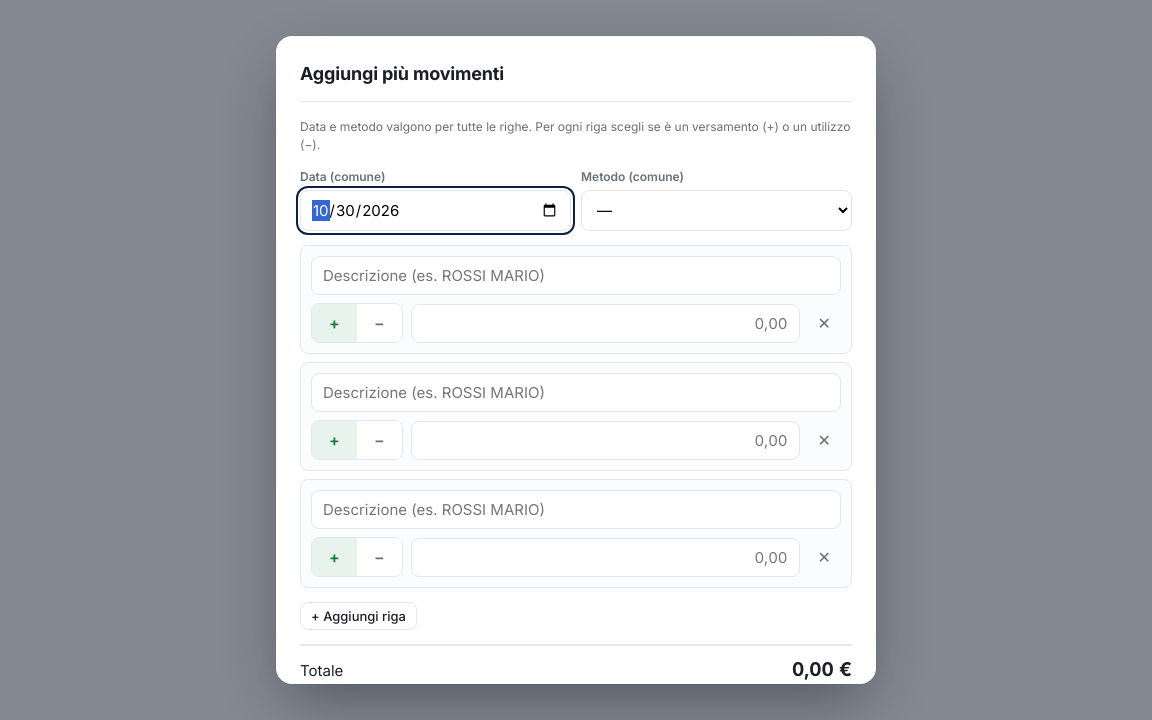
Scenario: BulkMovimentiModal — l'errore va sulla RIGA, non in un riassunto › una riga con importo non interpretabile: l'avviso è sotto QUELL'importo
Type "ROSSI MARIO" into the field named "Descrizione del movimento" at (576,276), box x1=311 y1=256 x2=841 y2=295
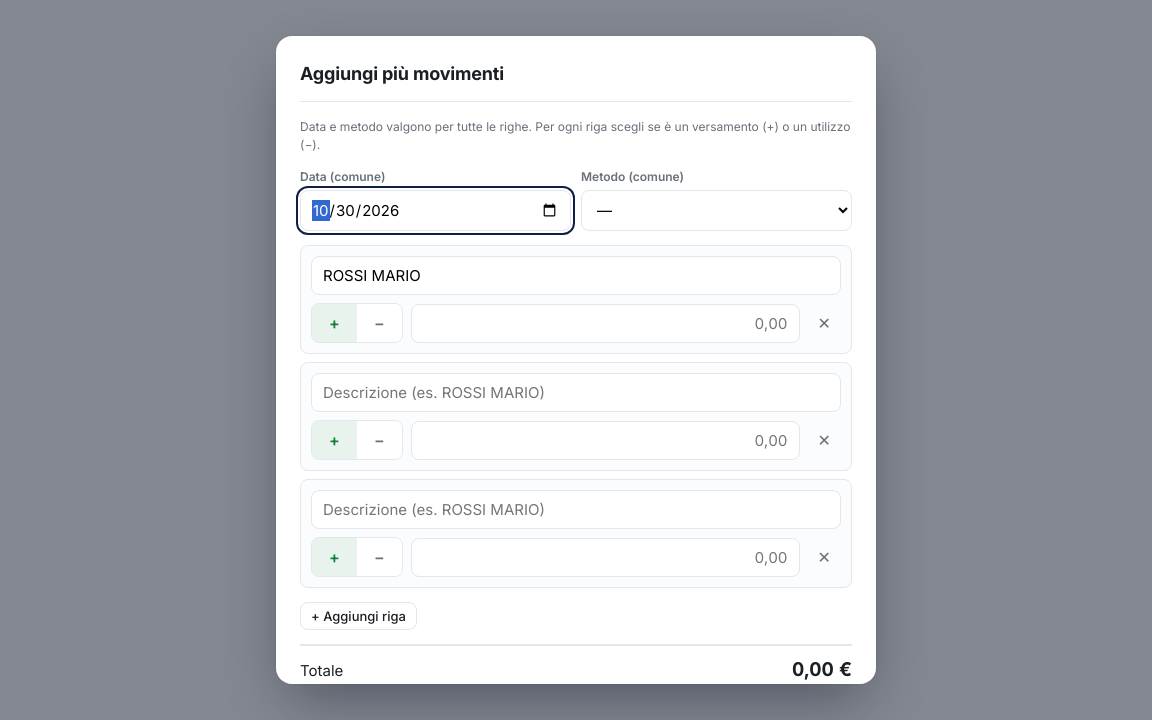
Type "non un numero" into the field named "Importo del movimento" at (605,323), box x1=411 y1=304 x2=800 y2=342
(page scrolled)
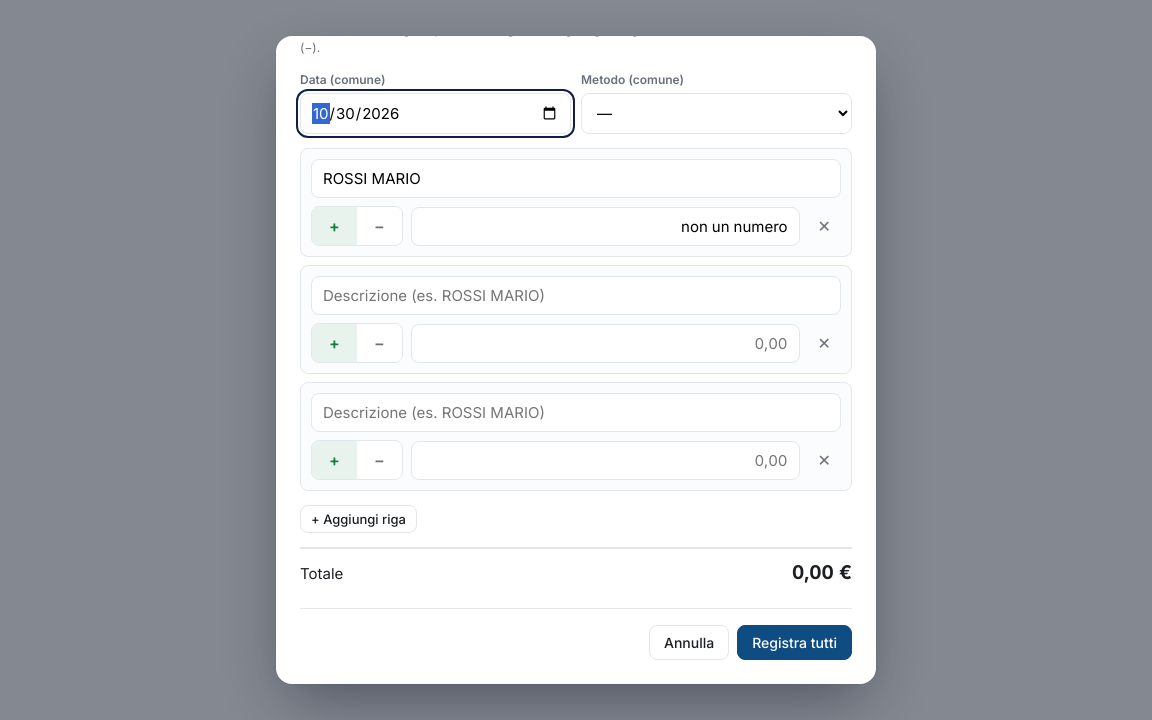
Click the button "Registra tutti" at (795,642), box x1=737 y1=624 x2=852 y2=660
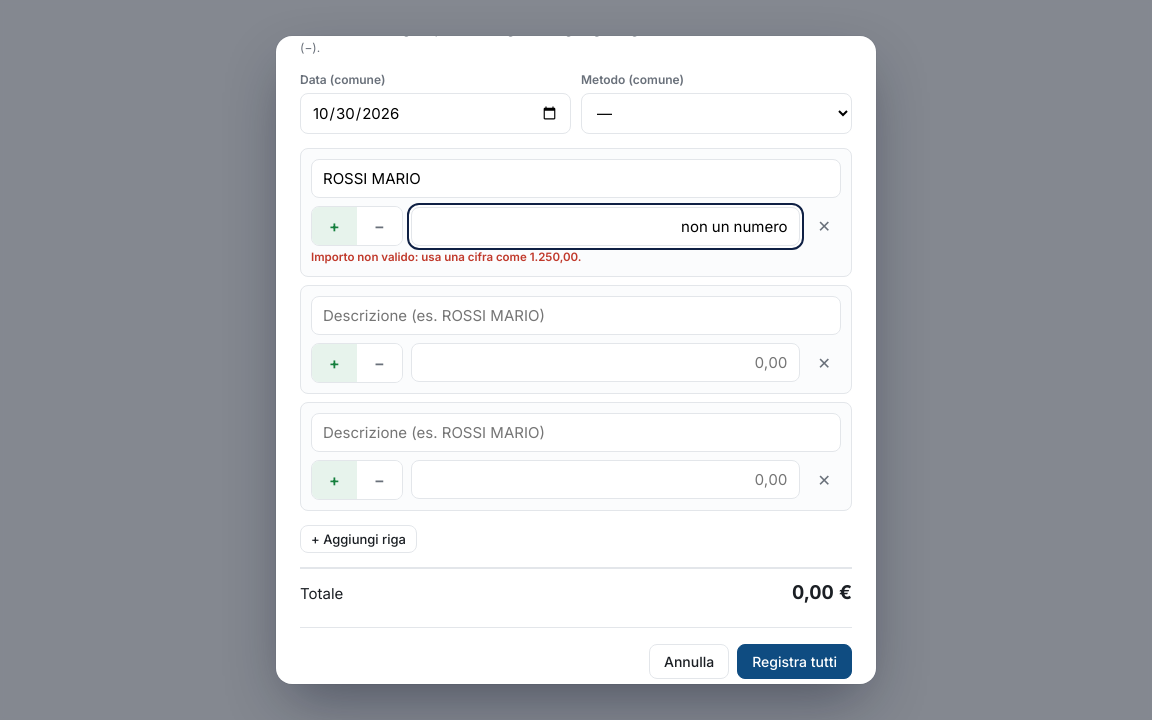
Expected: the message shows "Importo", x1=311 y1=250 x2=582 y2=264
